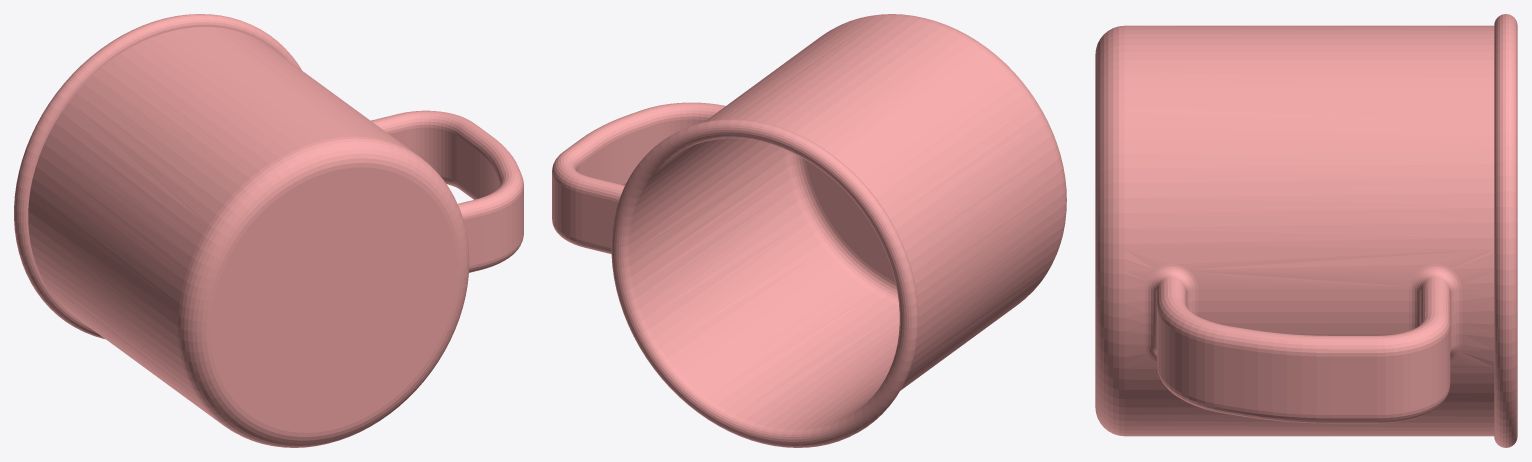
File: modelUV.glb
3 views of the same model, side by side, from view 1: azimuth 30°, elevation 25°; view 2: azimuth 150°, elevation 25°; view 3: azimuth 270°, elevation 25° (orthographic). The views are drawn at different scales.
Parts seen in each view (by area): view 1: 878f5979-5a5e-4f46-9c46-a5519132c25f; view 2: 878f5979-5a5e-4f46-9c46-a5519132c25f; view 3: 878f5979-5a5e-4f46-9c46-a5519132c25f.
Boxes of the visible parts, left/top/right/bottom form: 878f5979-5a5e-4f46-9c46-a5519132c25f: left=14, top=14, right=523, bottom=447; 878f5979-5a5e-4f46-9c46-a5519132c25f: left=552, top=14, right=1066, bottom=447; 878f5979-5a5e-4f46-9c46-a5519132c25f: left=1095, top=14, right=1517, bottom=447.
Bounding box in the file's own units: 99.48 × 74 × 72.
